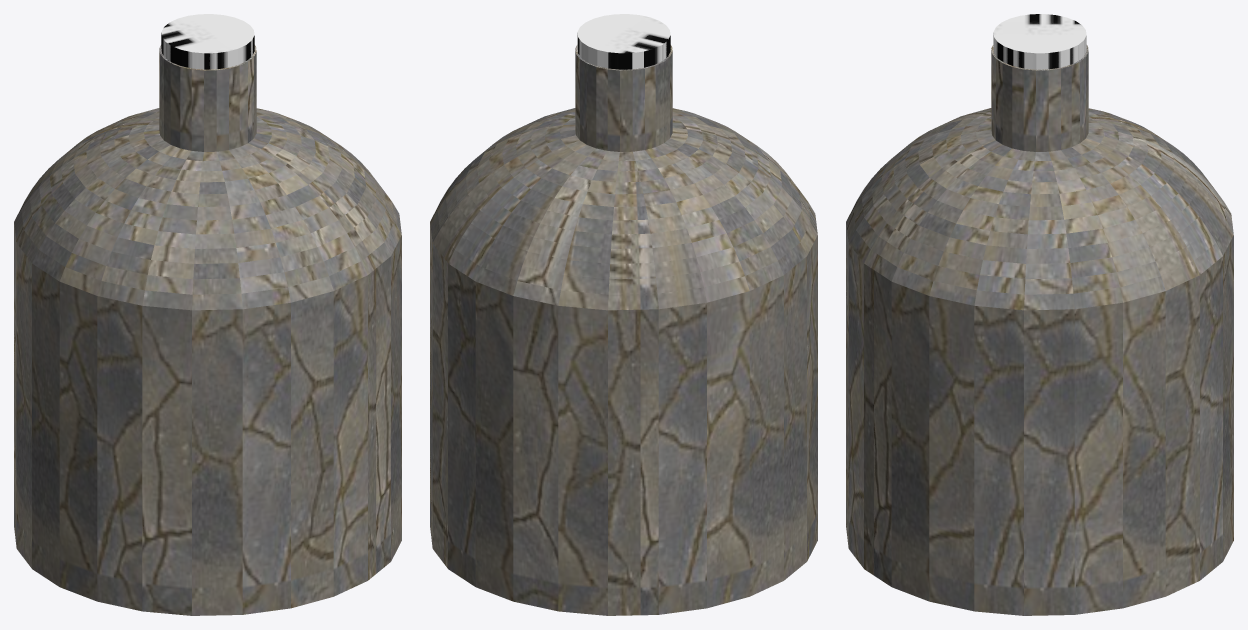
3 renders of one model, left to right at view 1: azimuth 30°, elevation 25°; view 2: azimuth 150°, elevation 25°; view 3: azimuth 270°, elevation 25°, orthographic.
Visible parts, largest first — view 1: mesh2_mesh2-geometry; view 2: mesh2_mesh2-geometry; view 3: mesh2_mesh2-geometry.
Boxes of the visible parts, x1=… form: mesh2_mesh2-geometry: x1=14, y1=14, x2=401, y2=615; mesh2_mesh2-geometry: x1=430, y1=14, x2=817, y2=615; mesh2_mesh2-geometry: x1=846, y1=14, x2=1233, y2=615.
Bounding box in the file's own units: 0.4983 × 0.7096 × 0.4983.
